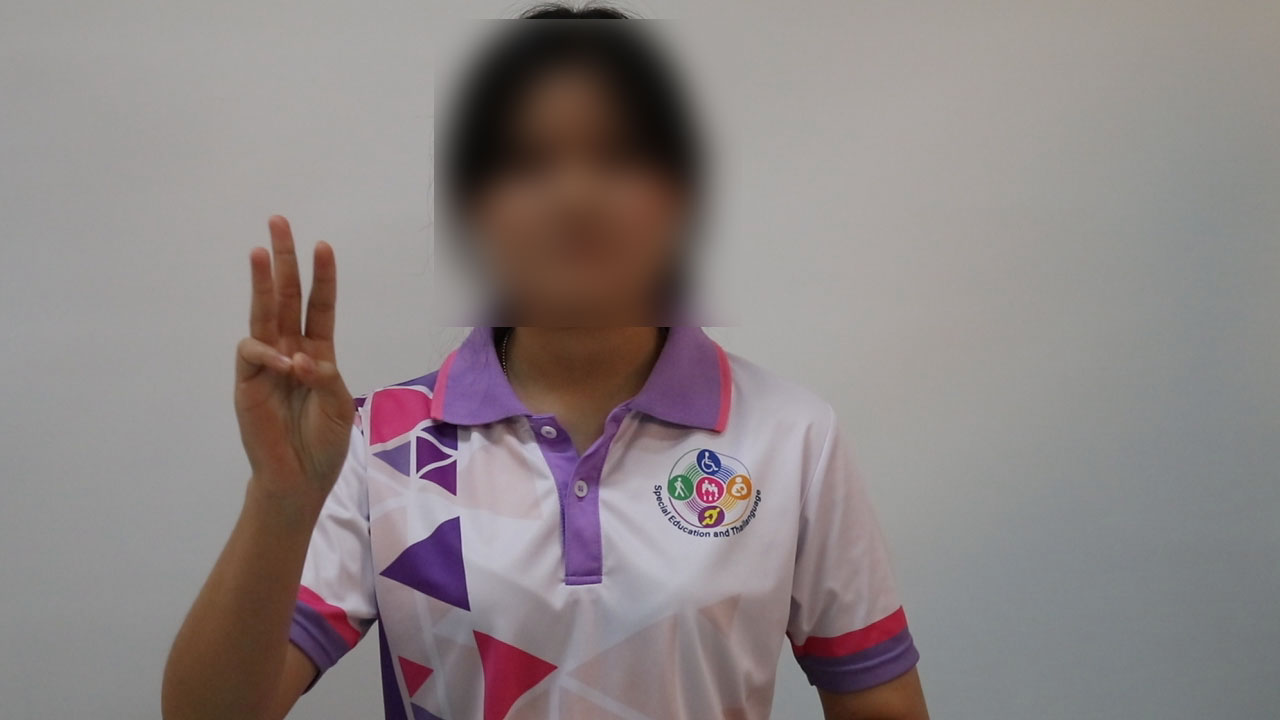wor: (221, 200, 358, 515)
